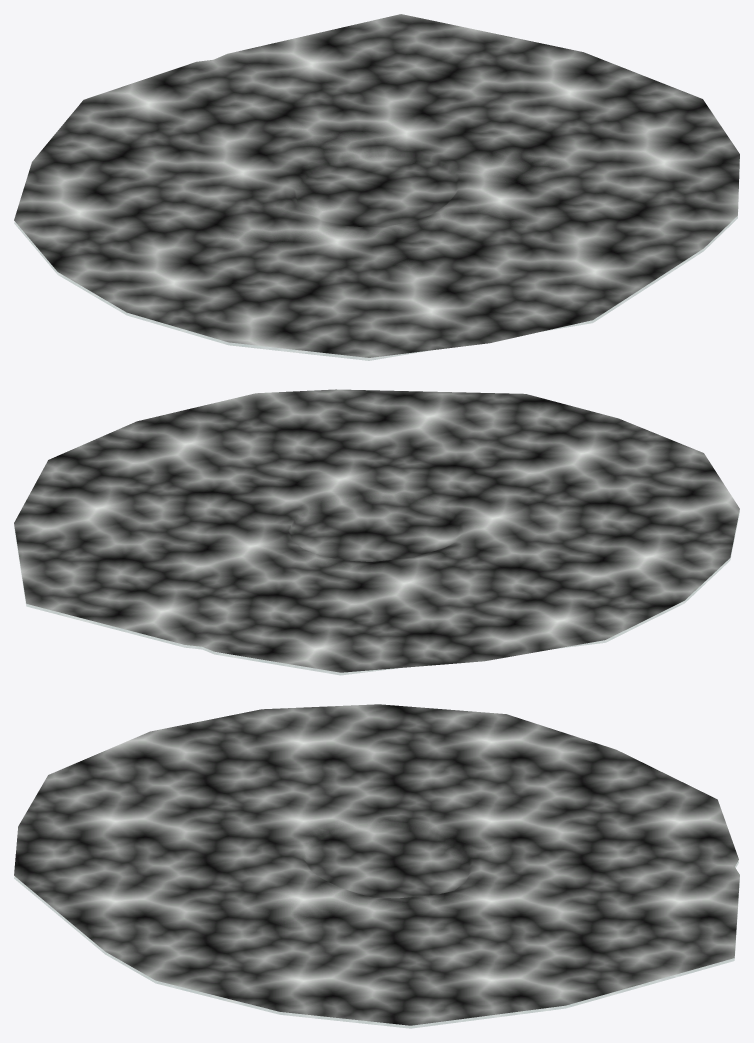
The model's file is CapClouds.fbx.
3 renders of one model, top to bottom at view 1: azimuth 30°, elevation 25°; view 2: azimuth 150°, elevation 25°; view 3: azimuth 270°, elevation 25°, orthographic. The views are drawn at different scales.
Parts seen in each view (by area): view 1: CapWorldHomeCloud000.002, CapWorldHomeCloud000.000; view 2: CapWorldHomeCloud000.002, CapWorldHomeCloud000.000; view 3: CapWorldHomeCloud000.002, CapWorldHomeCloud000.000.
Part boxes in pixels (left/top/right/bottom): CapWorldHomeCloud000.002: left=14, top=14, right=739, bottom=357; CapWorldHomeCloud000.000: left=14, top=159, right=739, bottom=360; CapWorldHomeCloud000.002: left=14, top=389, right=739, bottom=672; CapWorldHomeCloud000.000: left=14, top=511, right=739, bottom=675; CapWorldHomeCloud000.002: left=14, top=704, right=739, bottom=1025; CapWorldHomeCloud000.000: left=14, top=861, right=739, bottom=1028.
Bounding box in the file's own units: 222604 × 3189 × 212470.
2 materials, 2 textured.
